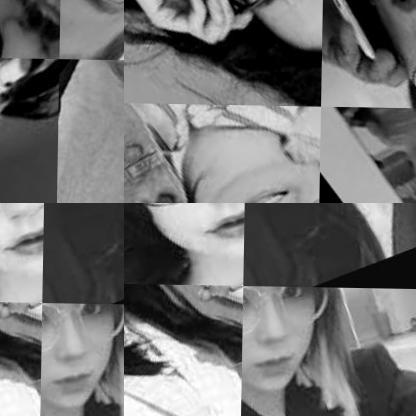glasses: (241, 286, 345, 374), (40, 302, 123, 392), (182, 0, 324, 39), (193, 167, 319, 202), (124, 203, 246, 238)
hands: (0, 56, 23, 163)
